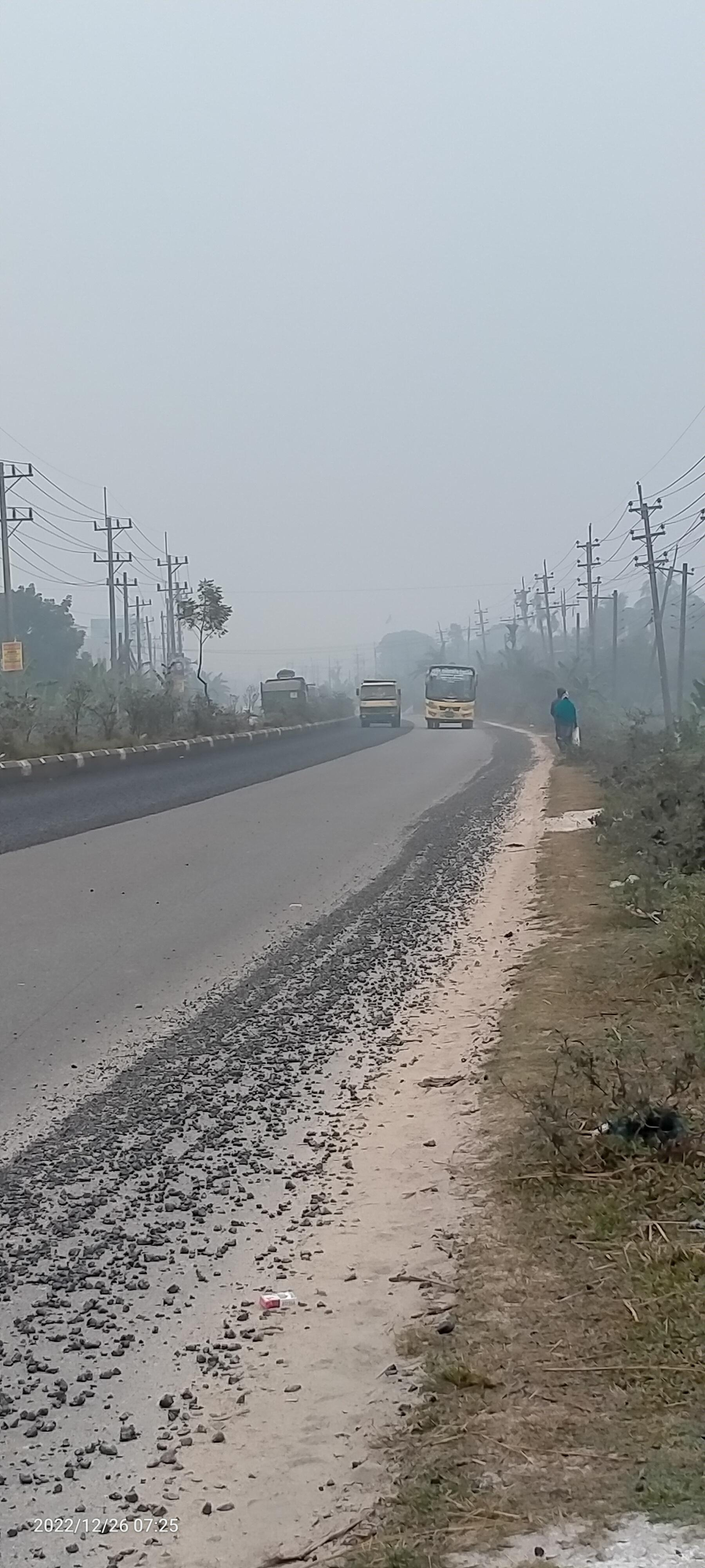Bus: (406, 653, 488, 751)
Truck: (251, 663, 321, 725), (346, 670, 409, 730)
